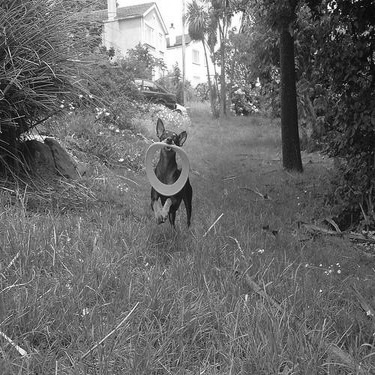dog: (135, 113, 200, 236)
